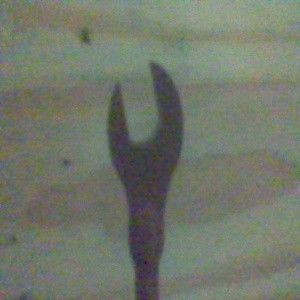spanner: (106, 59, 185, 300)
